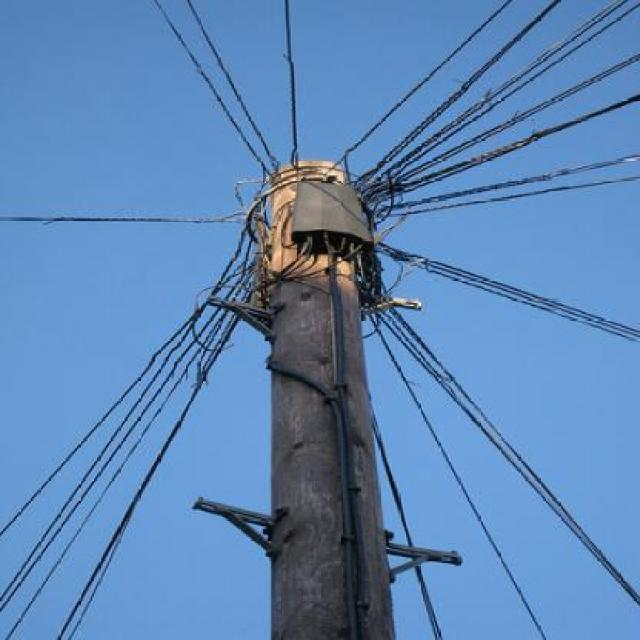pole: (202, 117, 466, 640)
